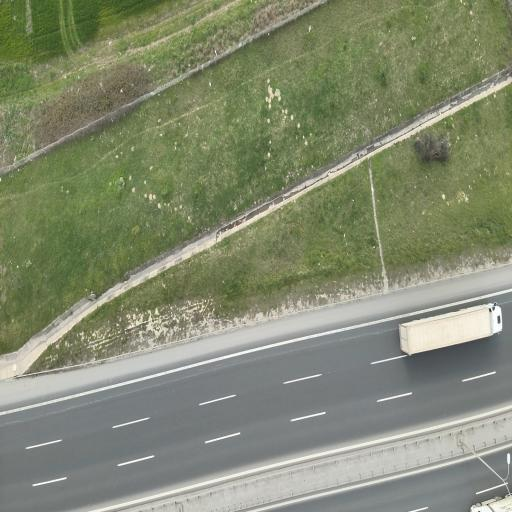car: (398, 303, 501, 354), (470, 494, 511, 511)
